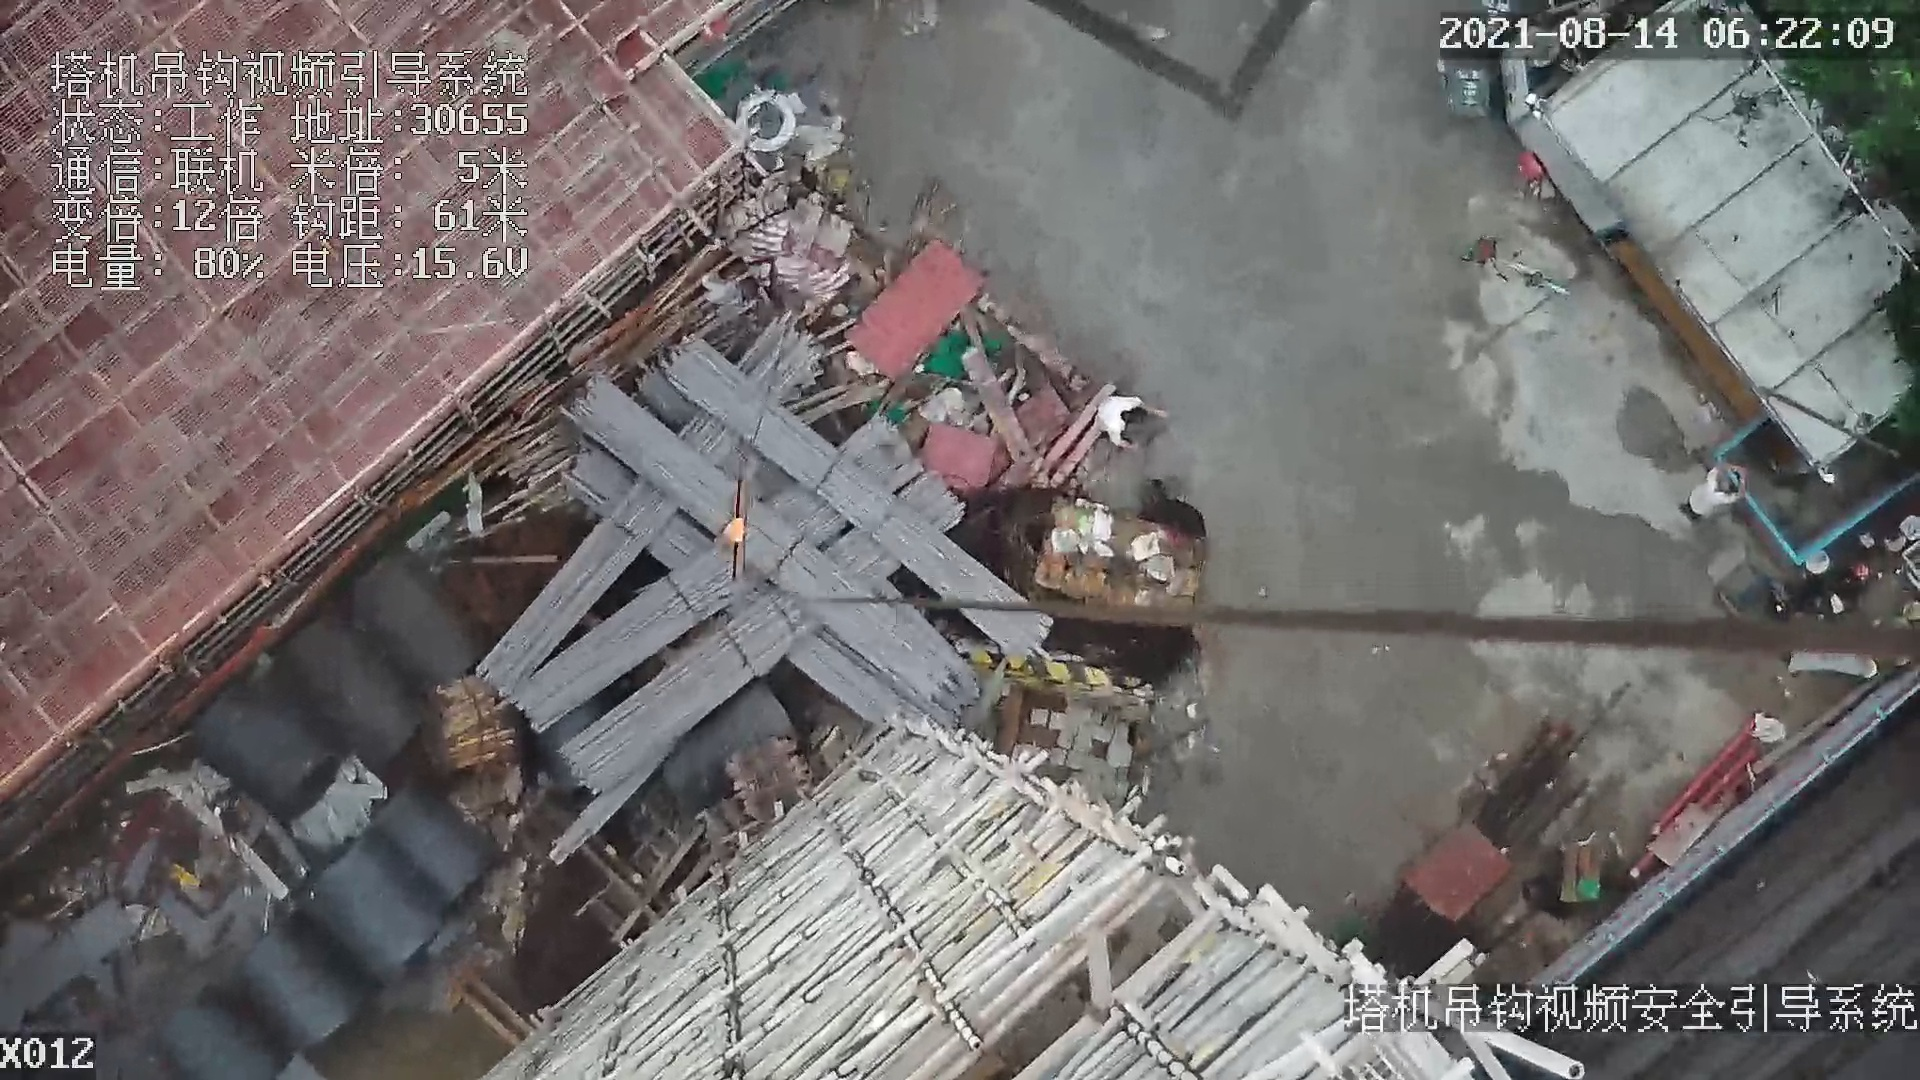hook: (720, 478, 754, 589)
person: (1092, 392, 1163, 457)
